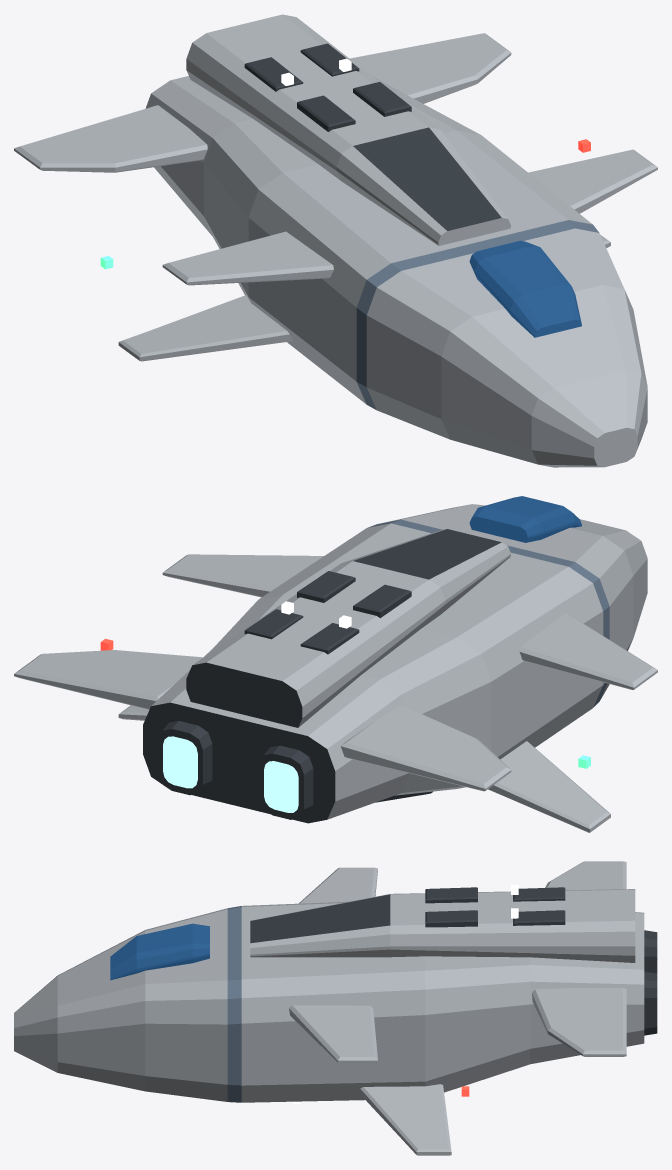
File: federal-dropship.glb
3 renders of one model, top to bottom at view 1: azimuth 30°, elevation 25°; view 2: azimuth 150°, elevation 25°; view 3: azimuth 270°, elevation 25°, orthographic. The views are drawn at different scales.
Visible parts, largest first — view 1: federal-dropship; view 2: federal-dropship; view 3: federal-dropship.
Part boxes in pixels (bbox=[...]): federal-dropship: bbox=[14, 14, 657, 467]; federal-dropship: bbox=[14, 496, 657, 832]; federal-dropship: bbox=[14, 861, 657, 1155].
Bounding box in the file's own units: 53.59 × 22.79 × 73.58.
